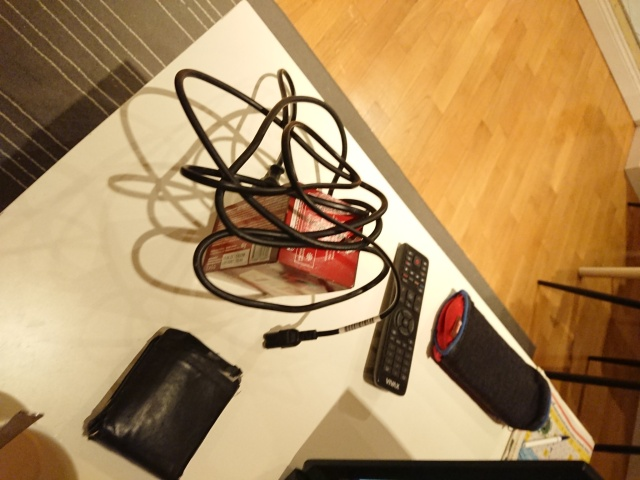Franck Apple Cinnamon Tea 60g: (195, 180, 369, 301)
